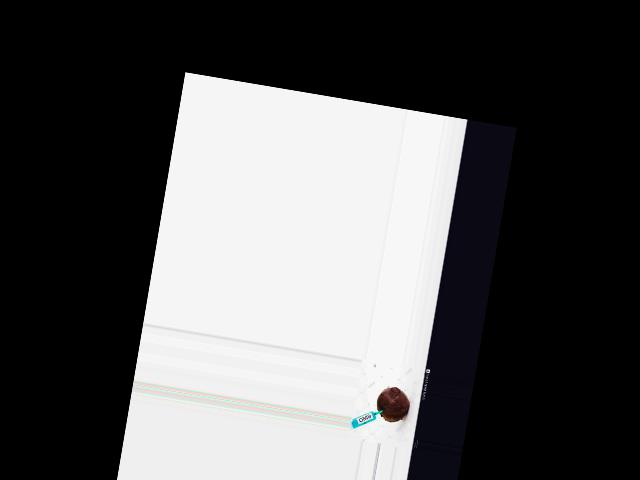beet: (374, 385, 412, 424)
